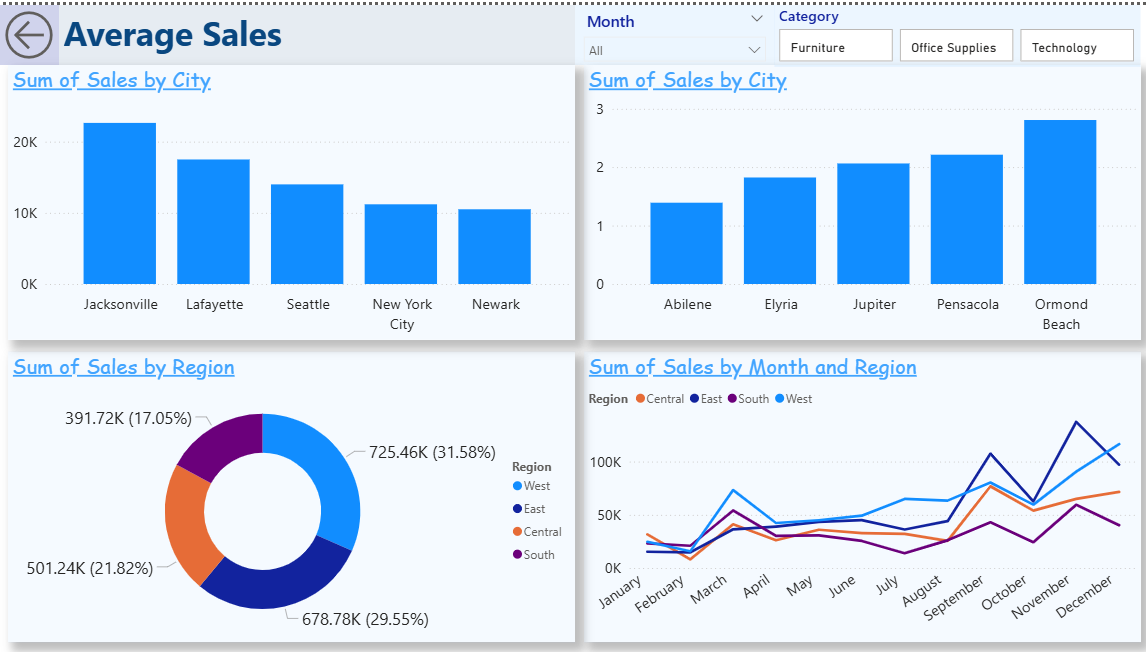

The page's visual inventory and layout, read from the dashboard file:
{"tool":"powerbi","page":{"name":"Sales","canvas":[1280,720],"ordinal":0},"visuals":[{"type":"textbox","box":[66.7,0,573.3,66.7],"z":0},{"type":"columnChart","fields":{"Y":["Sum(Orders.Sales)"],"Category":["Orders.City"]},"box":[10,66.7,630,305],"z":1000},{"type":"columnChart","fields":{"Category":["Orders.City"],"Y":["Sum(Orders.Sales)"]},"box":[650,66.7,618.3,305],"z":2000},{"type":"donutChart","fields":{"Category":["Orders.Region"],"Y":["Sum(Orders.Sales)"]},"box":[10,385,630,323.3],"z":3000},{"type":"lineChart","fields":{"Category":["Orders.Order Date.Variation.Date Hierarchy.Month"],"Y":["Sum(Orders.Sales)"],"Series":["Orders.Region"]},"box":[650,385,618.3,323.3],"z":4000},{"type":"slicer","fields":{"Values":["Orders.Order Date.Variation.Date Hierarchy.Month"]},"box":[640,0,221.7,66.7],"z":5000},{"type":"advancedSlicerVisual","fields":{"Values":["Orders.Category"]},"box":[861.7,0,406.7,68.3],"z":6000},{"type":"actionButton","box":[0,0,66.7,66.7],"z":7000}]}

Visuals, with their boxes in screenshot pixels (x1, y1, x2, y2), scaled from the page's 1280x720 canvas onto the 1146x652 screenshot:
textbox: (x1=60, y1=0, x2=573, y2=60)
columnChart - Sum(Orders.Sales) x Orders.City: (x1=9, y1=60, x2=573, y2=337)
columnChart - Orders.City x Sum(Orders.Sales): (x1=582, y1=60, x2=1136, y2=337)
donutChart - Orders.Region x Sum(Orders.Sales): (x1=9, y1=349, x2=573, y2=641)
lineChart - Orders.Order Date.Variation.Date Hierarchy.Month x Sum(Orders.Sales): (x1=582, y1=349, x2=1136, y2=641)
slicer - Orders.Order Date.Variation.Date Hierarchy.Month: (x1=573, y1=0, x2=771, y2=60)
advancedSlicerVisual - Orders.Category: (x1=771, y1=0, x2=1136, y2=62)
actionButton: (x1=0, y1=0, x2=60, y2=60)
